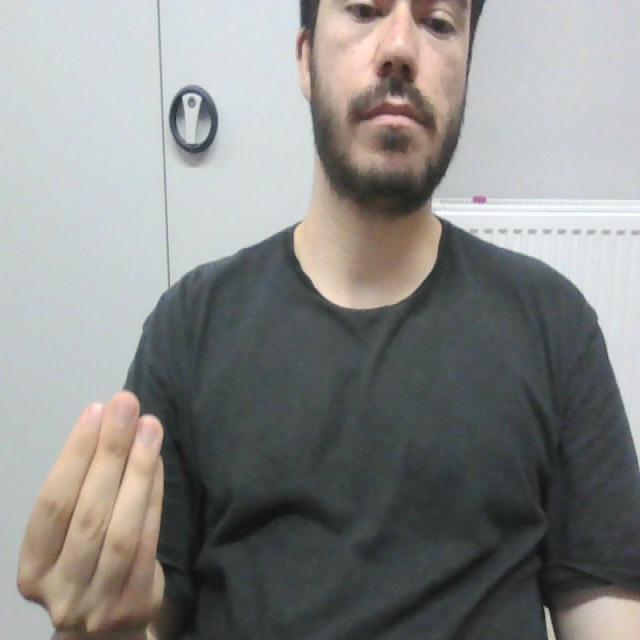iyi: (16, 386, 169, 632)
